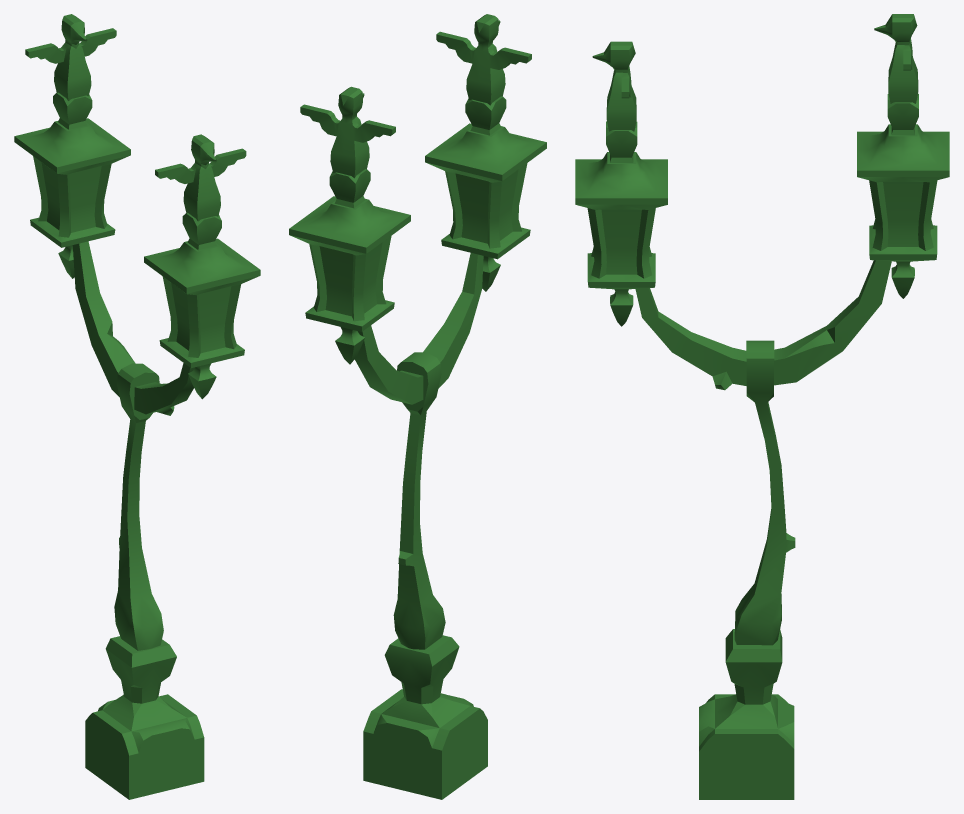
The model's file is OBJ_Streetlight_02.FBX.
3 renders of one model, left to right at view 1: azimuth 30°, elevation 25°; view 2: azimuth 150°, elevation 25°; view 3: azimuth 270°, elevation 25°, orthographic. The views are drawn at different scales.
Visible parts, largest first — view 1: OBJ_Streetlight_02; view 2: OBJ_Streetlight_02; view 3: OBJ_Streetlight_02.
Part boxes in pixels (bbox=[...]): OBJ_Streetlight_02: bbox=[14, 14, 260, 799]; OBJ_Streetlight_02: bbox=[289, 14, 546, 799]; OBJ_Streetlight_02: bbox=[575, 14, 949, 799].
Size of the model in its own units: 4.08 by 31.26 by 13.87.
